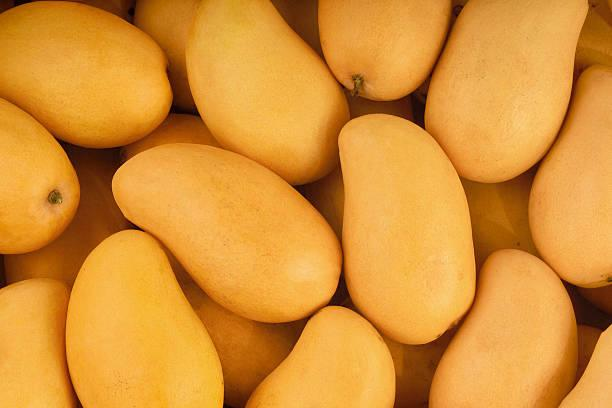mango: (109, 142, 354, 317), (335, 112, 482, 340), (75, 219, 235, 408), (187, 0, 354, 179), (437, 0, 581, 182), (0, 6, 181, 149), (435, 248, 583, 408), (240, 299, 400, 408), (541, 62, 612, 295), (317, 0, 444, 108), (0, 269, 74, 408)
